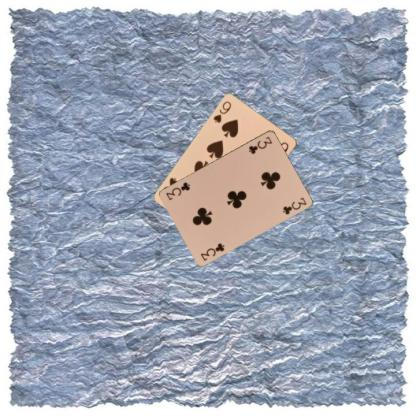3c: (198, 240, 226, 262), (246, 133, 273, 155)
9s: (211, 99, 232, 124)
